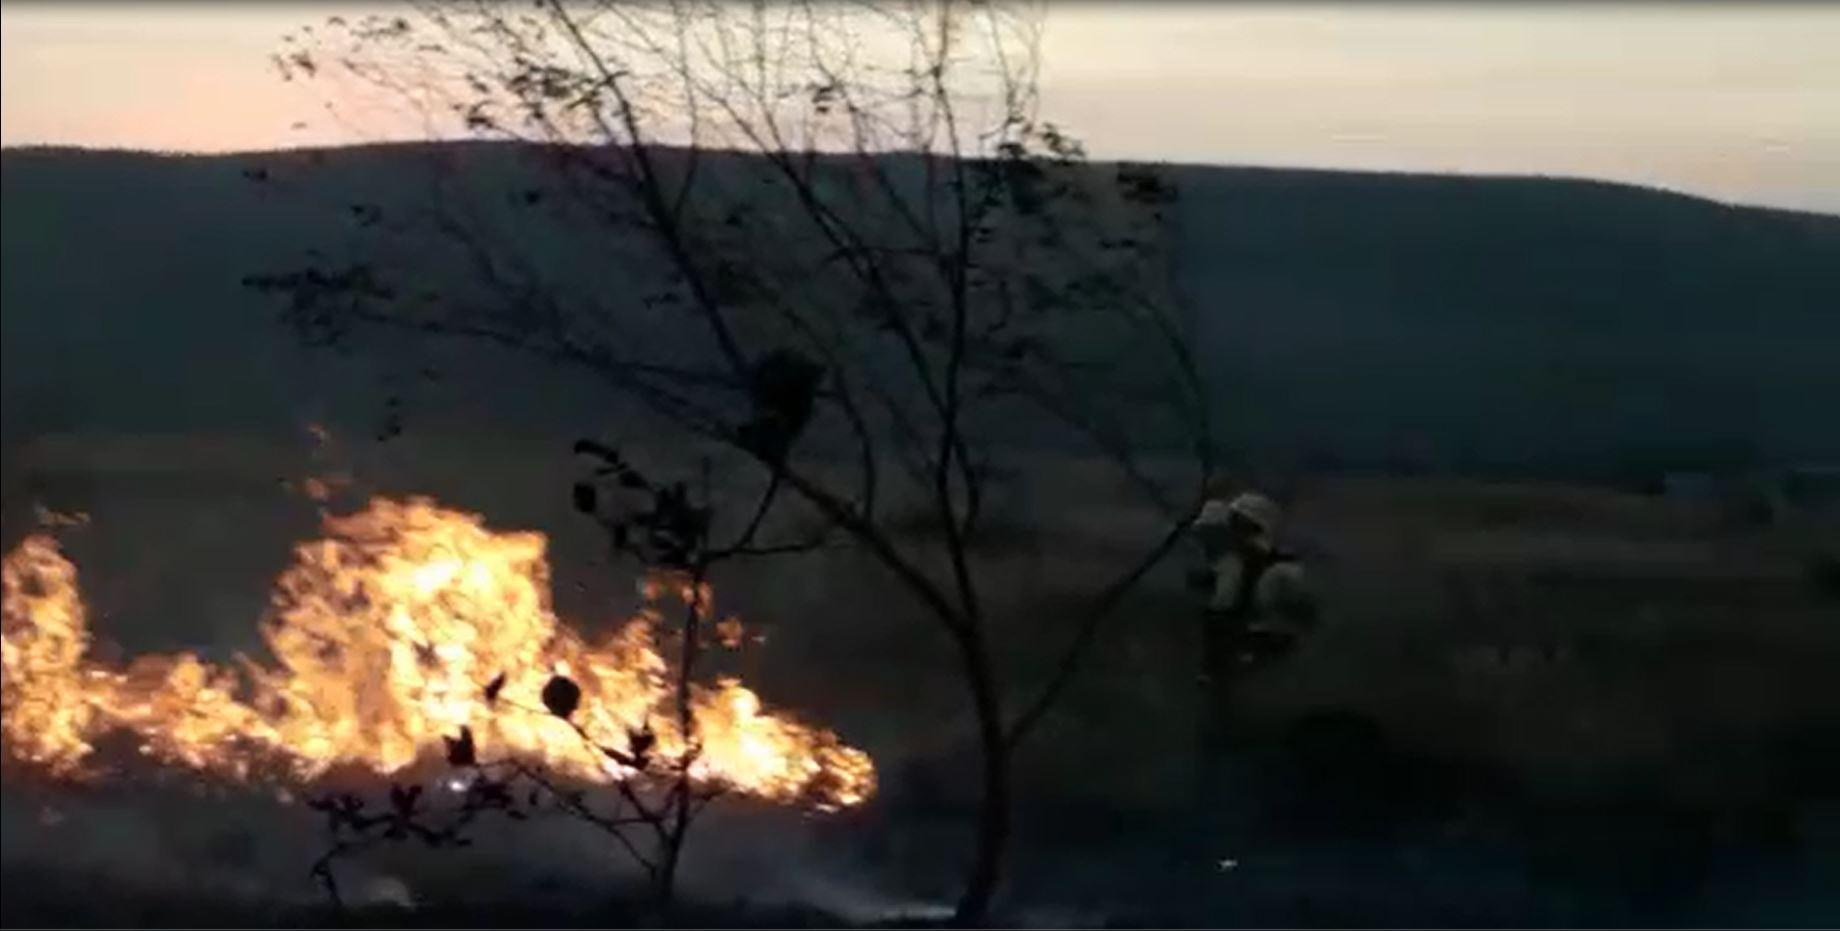Fire: (9, 490, 877, 813)
